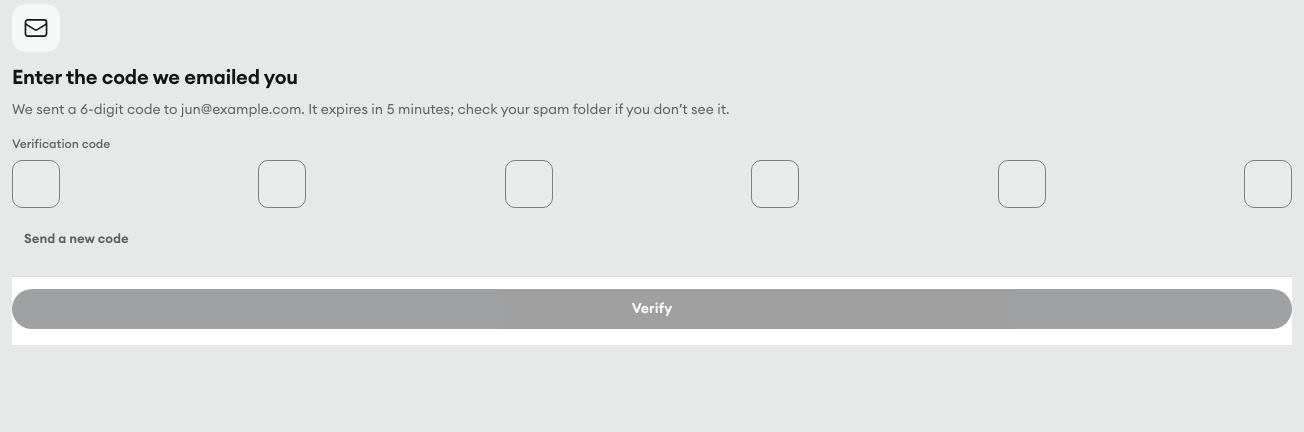
Test: says the code did not work, with the reason underneath
Type "123456" into the field named "Digit 1 of 6" at [36, 184], box [12,160,60,208]
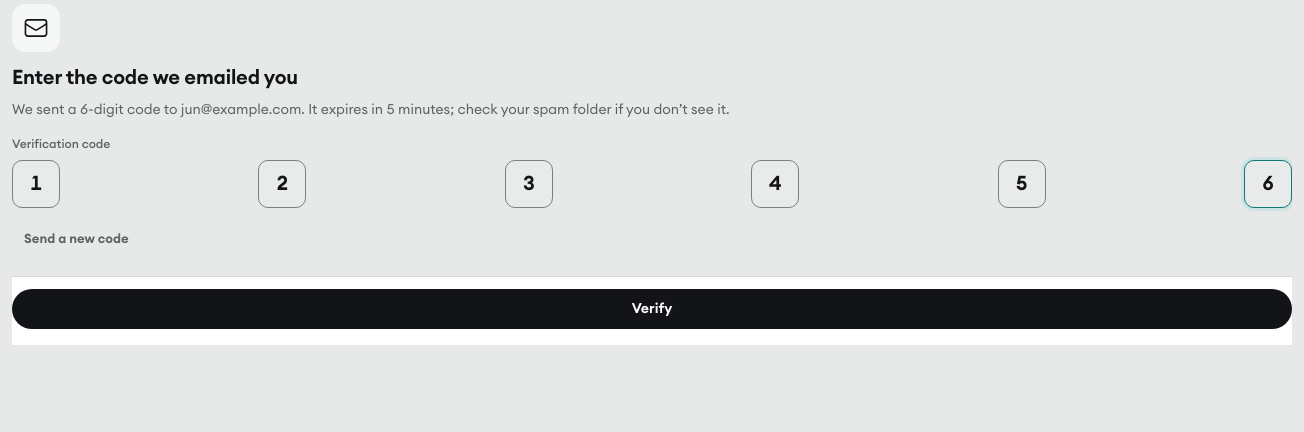
Click the button "Verify" at [652, 309], box [12,289,1292,329]
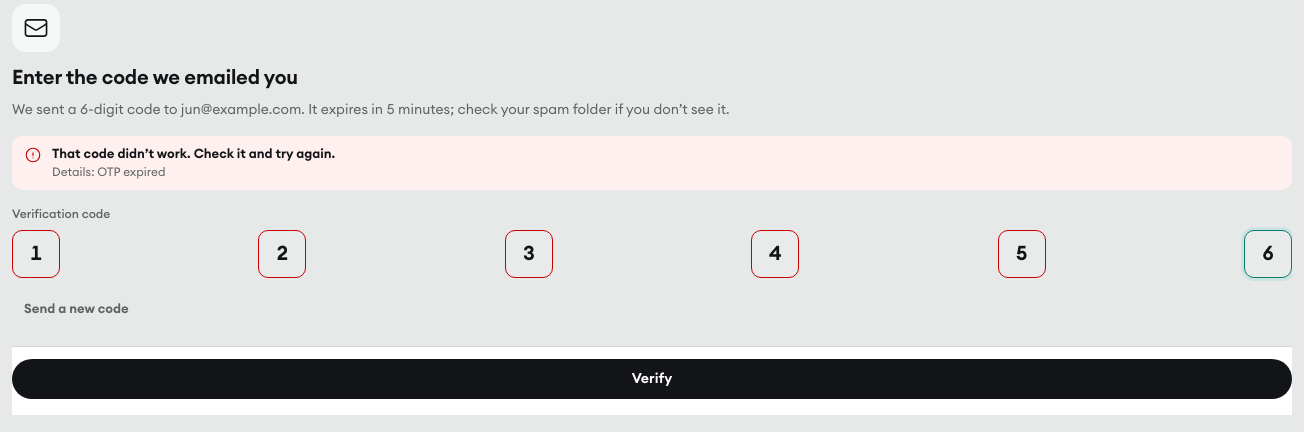
Expected: the message shows "That code didn’t work", [52,148,335,161]
Expected: the message shows "Details: OTP expired", [52,166,166,178]
